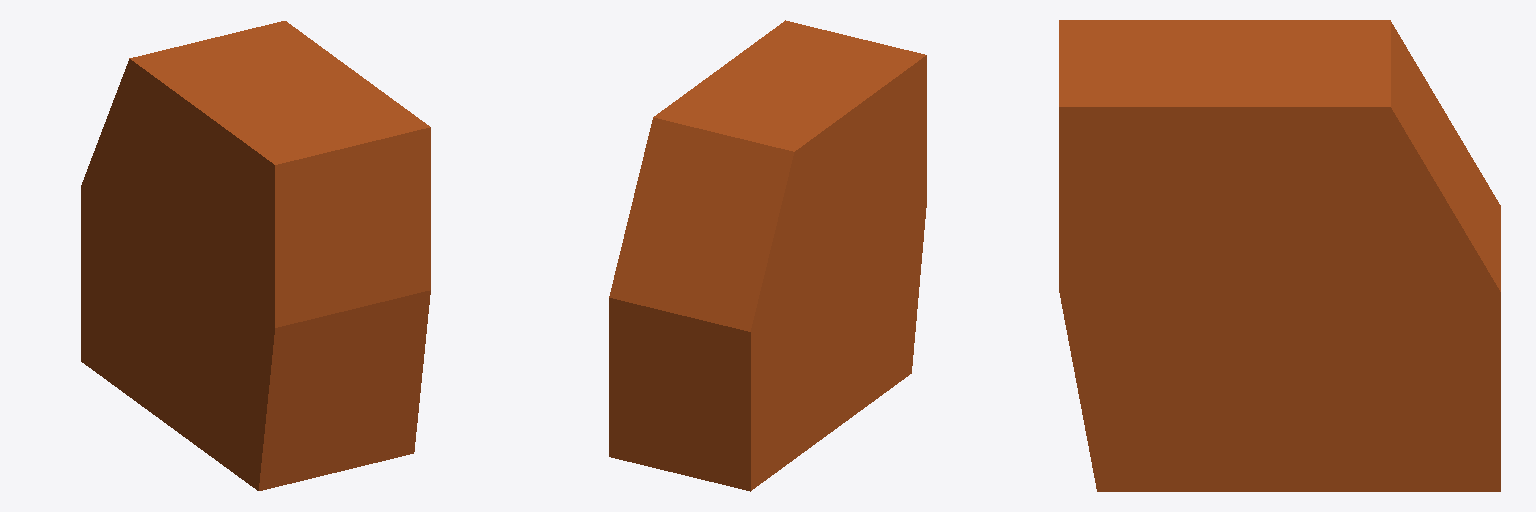
robot.urdf — robot_arm_collision.SLDASM:
<?xml version="1.0" encoding="utf-8"?>
<!-- This URDF was automatically created by SolidWorks to URDF Exporter! Originally created by [author] ([email redacted]) 
     Commit Version: 1.6.0-4-g7f85cfe  Build Version: 1.6.7995.38578
     For more information, please see http://wiki.ros.org/sw_urdf_exporter -->
<robot
  name="robot_arm_collision.SLDASM">
  <link
    name="shoulder_link">
    <inertial>
      <origin
        xyz="0.0570590110750643 4.8504493175458E-18 0.0274748293992617"
        rpy="0 0 0" />
      <mass
        value="0.44695" />
      <inertia
        ixx="0.000472367758497409"
        ixy="1.50580117871325E-20"
        ixz="-1.46503388745944E-05"
        iyy="0.0011849816770803"
        iyz="1.90921528497159E-20"
        izz="0.00111042621024956" />
    </inertial>
    <visual>
      <origin
        xyz="0 0 0"
        rpy="0 0 0" />
      <geometry>
        <mesh
          filename="package://robot_arm_collision.SLDASM/meshes/shoulder_link.STL" />
      </geometry>
      <material
        name="">
        <color
          rgba="0.76078431372549 0.4 0.180392156862745 0.3" />
      </material>
    </visual>
    <collision>
      <origin
        xyz="0 0 0"
        rpy="0 0 0" />
      <geometry>
        <mesh
          filename="package://robot_arm_collision.SLDASM/meshes/shoulder_link.STL" />
      </geometry>
    </collision>
  </link>
  <link
    name="upperarm_link">
    <inertial>
      <origin
        xyz="-0.0542794160295615 2.73794514642487E-05 0.0995612253047667"
        rpy="0 0 0" />
      <mass
        value="1.00813753712321" />
      <inertia
        ixx="0.00507476754934586"
        ixy="-6.14461165348641E-07"
        ixz="-0.000415599095931369"
        iyy="0.00536428986743188"
        iyz="9.13703898320493E-07"
        izz="0.00122677358641733" />
    </inertial>
    <visual>
      <origin
        xyz="0 0 0"
        rpy="0 0 0" />
      <geometry>
        <mesh
          filename="package://robot_arm_collision.SLDASM/meshes/upperarm_link.STL" />
      </geometry>
      <material
        name="">
        <color
          rgba="0.76078431372549 0.4 0.180392156862745 0.3" />
      </material>
    </visual>
    <collision>
      <origin
        xyz="0 0 0"
        rpy="0 0 0" />
      <geometry>
        <mesh
          filename="package://robot_arm_collision.SLDASM/meshes/upperarm_link.STL" />
      </geometry>
    </collision>
  </link>
  <joint
    name="shoulder_joint"
    type="continuous">
    <origin
      xyz="0.099 5.51050720883047E-05 0.0495"
      rpy="0 0 0" />
    <parent
      link="shoulder_link" />
    <child
      link="upperarm_link" />
    <axis
      xyz="-1 0 0" />
  </joint>
  <link
    name="forearm_link">
    <inertial>
      <origin
        xyz="0.0325000000000004 -0.0374246250850949 0.0305692835880084"
        rpy="0 0 0" />
      <mass
        value="1.13069535731631" />
      <inertia
        ixx="0.00327306484390645"
        ixy="1.30749396838065E-17"
        ixz="-2.85258529726085E-18"
        iyy="0.0020315216681604"
        iyz="0.000277714965158819"
        izz="0.00203774115652295" />
    </inertial>
    <visual>
      <origin
        xyz="0 0 0"
        rpy="0 0 0" />
      <geometry>
        <mesh
          filename="package://robot_arm_collision.SLDASM/meshes/forearm_link.STL" />
      </geometry>
      <material
        name="">
        <color
          rgba="0.76078431372549 0.4 0.180392156862745 0.3" />
      </material>
    </visual>
    <collision>
      <origin
        xyz="0 0 0"
        rpy="0 0 0" />
      <geometry>
        <mesh
          filename="package://robot_arm_collision.SLDASM/meshes/forearm_link.STL" />
      </geometry>
    </collision>
  </link>
  <joint
    name="elbow_joint"
    type="continuous">
    <origin
      xyz="-0.1315 0 0.181727818450784"
      rpy="0 0 0" />
    <parent
      link="upperarm_link" />
    <child
      link="forearm_link" />
    <axis
      xyz="-1 0 0" />
  </joint>
  <link
    name="wrist_turn_link">
    <inertial>
      <origin
        xyz="-0.0218443456162636 -0.1744046541519 0"
        rpy="0 0 0" />
      <mass
        value="0.51155" />
      <inertia
        ixx="0.000960272102948962"
        ixy="-0.000308824342614358"
        ixz="-2.91613727621737E-20"
        iyy="0.000581626239353028"
        iyz="-5.55979726464925E-20"
        izz="0.00118168188396866" />
    </inertial>
    <visual>
      <origin
        xyz="0 0 0"
        rpy="0 0 0" />
      <geometry>
        <mesh
          filename="package://robot_arm_collision.SLDASM/meshes/wrist_turn_link.STL" />
      </geometry>
      <material
        name="">
        <color
          rgba="0.76078431372549 0.4 0.180392156862745 0.3" />
      </material>
    </visual>
    <collision>
      <origin
        xyz="0 0 0"
        rpy="0 0 0" />
      <geometry>
        <mesh
          filename="package://robot_arm_collision.SLDASM/meshes/wrist_turn_link.STL" />
      </geometry>
    </collision>
  </link>
  <joint
    name="wrist_turn"
    type="continuous">
    <origin
      xyz="0.0324999999999998 0.0121430516635527 0.0675000000000003"
      rpy="0 0 0" />
    <parent
      link="forearm_link" />
    <child
      link="wrist_turn_link" />
    <axis
      xyz="0 1 0" />
  </joint>
  <link
    name="wrist_tilt_link">
    <inertial>
      <origin
        xyz="0.0545000000000007 -0.0235 0"
        rpy="0 0 0" />
      <mass
        value="0.401375" />
      <inertia
        ixx="0.000443184895833334"
        ixy="1.79606131344339E-18"
        ixz="2.19505390442264E-20"
        iyy="0.000282634895833334"
        iyz="-7.19973302606914E-20"
        izz="0.000443184895833334" />
    </inertial>
    <visual>
      <origin
        xyz="0 0 0"
        rpy="0 0 0" />
      <geometry>
        <mesh
          filename="package://robot_arm_collision.SLDASM/meshes/wrist_tilt_link.STL" />
      </geometry>
      <material
        name="">
        <color
          rgba="0.76078431372549 0.4 0.180392156862745 0.3" />
      </material>
    </visual>
    <collision>
      <origin
        xyz="0 0 0"
        rpy="0 0 0" />
      <geometry>
        <mesh
          filename="package://robot_arm_collision.SLDASM/meshes/wrist_tilt_link.STL" />
      </geometry>
    </collision>
  </link>
  <joint
    name="wrist_tilt_joint"
    type="continuous">
    <origin
      xyz="-0.0524999999999995 -0.23103426025101 0"
      rpy="0 0 0" />
    <parent
      link="wrist_turn_link" />
    <child
      link="wrist_tilt_link" />
    <axis
      xyz="1 0 0" />
  </joint>
</robot>

--- Render facts (derived) ---
The picture shows the robot from 3 angles, left to right: view 1: azimuth 30°, elevation 25°; view 2: azimuth 150°, elevation 25°; view 3: azimuth 270°, elevation 25°; orthographic projection.
Robot: robot_arm_collision.SLDASM — 5 links, 4 joints (4 continuous); root link shoulder_link; default pose: every joint at zero.
Links seen in each view (by area): view 1: forearm_link; view 2: forearm_link; view 3: forearm_link.
Link boxes in pixels (x1,y1,x2,y2): forearm_link: (81, 21, 430, 490); forearm_link: (609, 20, 926, 491); forearm_link: (1059, 20, 1500, 491).
Size in the robot's own frame: 0.065 by 0.1404 by 0.135 metres.
Meshes: 5 distinct files referenced, 1 mesh visuals loaded (1 binary STL); not drawn: 4 (reference not matched to a file when rendering).